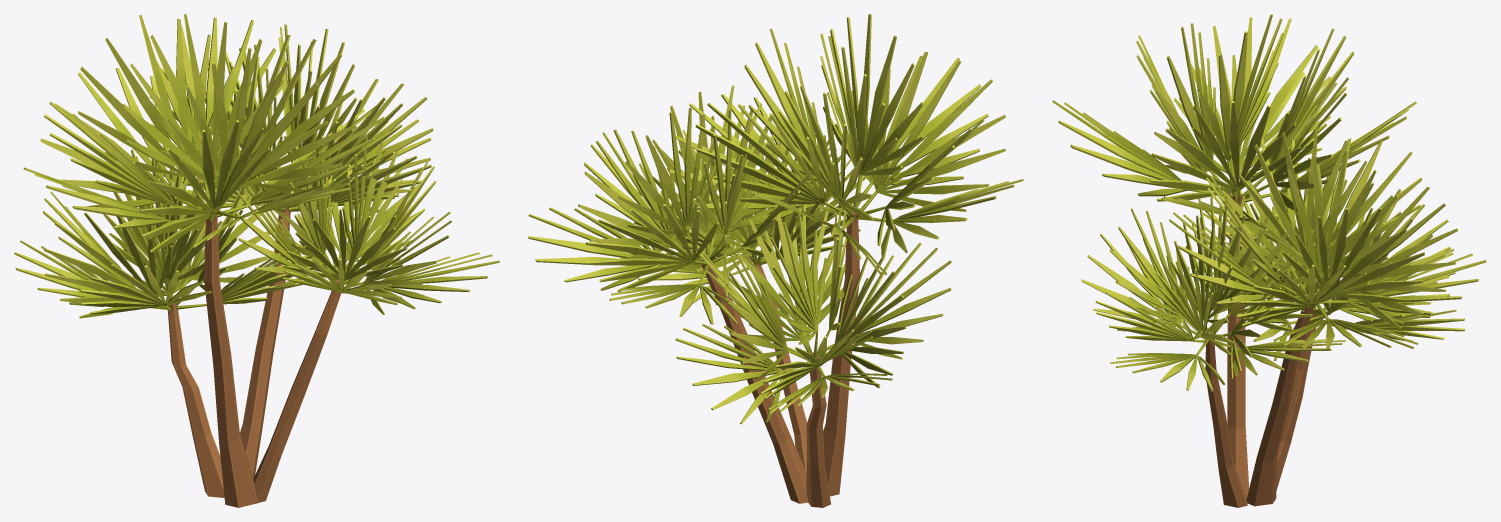
3 views of the same model, side by side, from view 1: azimuth 30°, elevation 25°; view 2: azimuth 150°, elevation 25°; view 3: azimuth 270°, elevation 25° (orthographic). The views are drawn at different scales.
Visible parts, largest first — view 1: EvergladesPalmTree_mesh; view 2: EvergladesPalmTree_mesh; view 3: EvergladesPalmTree_mesh.
Boxes of the visible parts, <box> form: EvergladesPalmTree_mesh: <box>14,14,499,507</box>; EvergladesPalmTree_mesh: <box>528,14,1023,507</box>; EvergladesPalmTree_mesh: <box>1052,14,1486,507</box>.
Bounding box in the file's own units: 7.72 × 8.1 × 6.86.
Materials: 1 (1 with a texture image).
